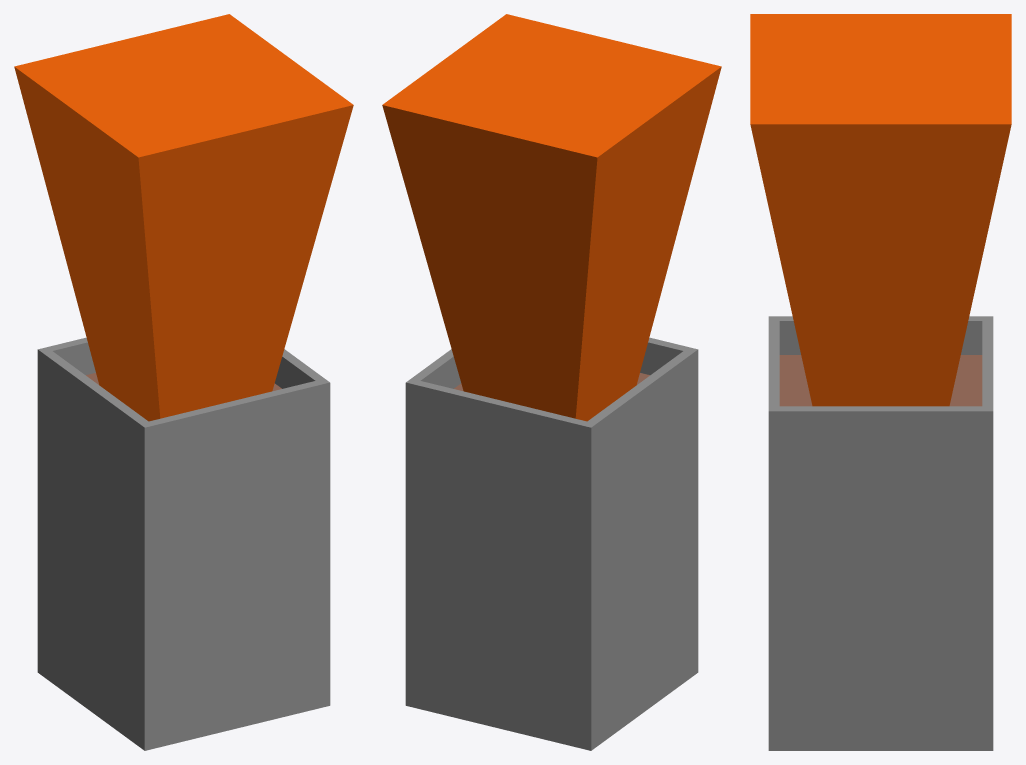
File: deco_04.fbx
The picture shows the model from 3 angles, left to right: view 1: azimuth 30°, elevation 25°; view 2: azimuth 150°, elevation 25°; view 3: azimuth 270°, elevation 25°; orthographic projection. The views are drawn at different scales.
Parts seen in each view (by area): view 1: deco_04; view 2: deco_04; view 3: deco_04.
Part boxes in pixels (<box>): deco_04: <box>14,14,353,750</box>; deco_04: <box>382,14,721,750</box>; deco_04: <box>750,14,1011,750</box>.
Bounding box in the file's own units: 0.697 × 1.87 × 0.697.
